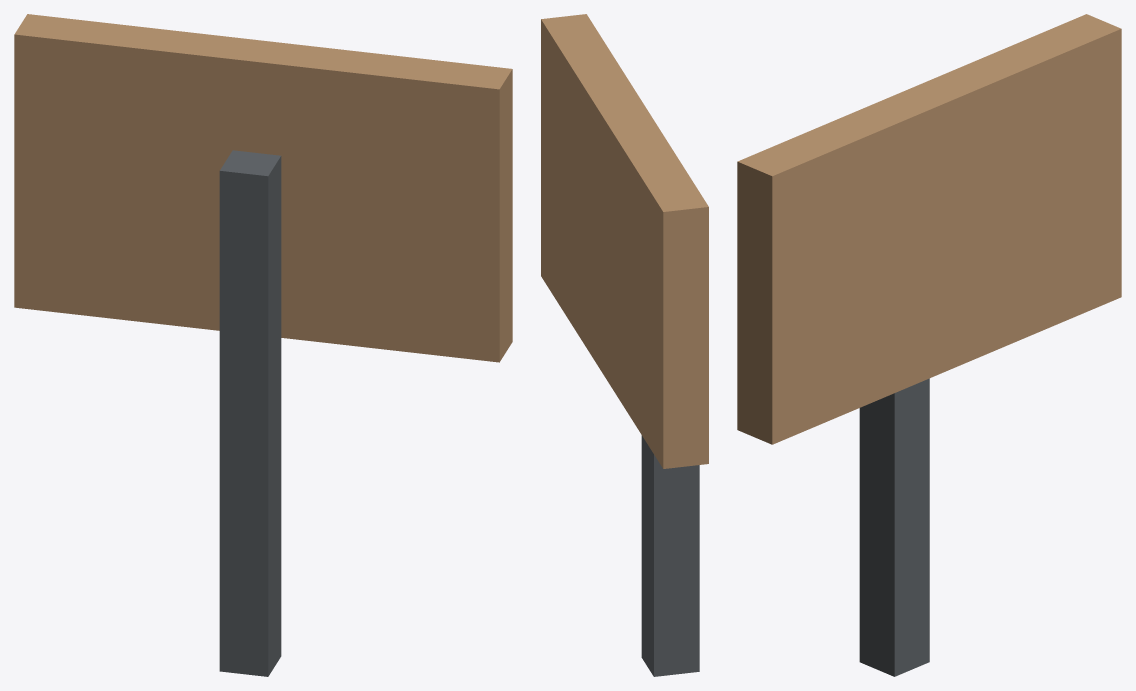
File: sign.glb
The picture shows the model from 3 angles, left to right: view 1: azimuth 30°, elevation 25°; view 2: azimuth 150°, elevation 25°; view 3: azimuth 270°, elevation 25°; orthographic projection. The views are drawn at different scales.
Parts seen in each view (by area): view 1: Board, Stake; view 2: Board, Stake; view 3: Board, Stake.
Part boxes in pixels (left/top/right/bottom): Board: left=14, top=14, right=512, bottom=362; Stake: left=219, top=150, right=281, bottom=676; Board: left=541, top=14, right=708, bottom=468; Stake: left=641, top=435, right=699, bottom=676; Board: left=737, top=14, right=1121, bottom=444; Stake: left=859, top=378, right=929, bottom=676.
Bounding box in the file's own units: 0.7778 × 1.3 × 0.7778.
